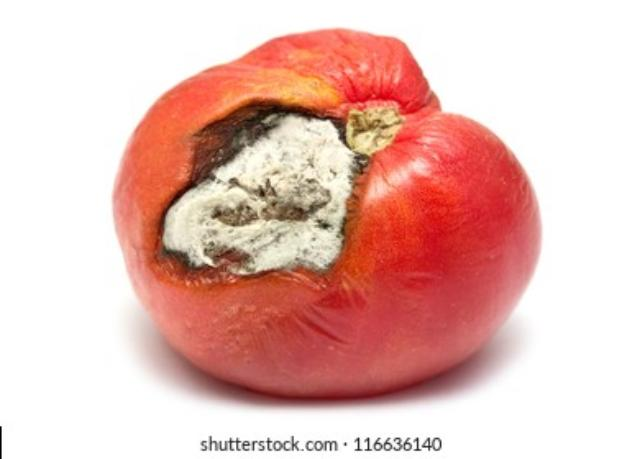defect: (107, 25, 547, 397)
